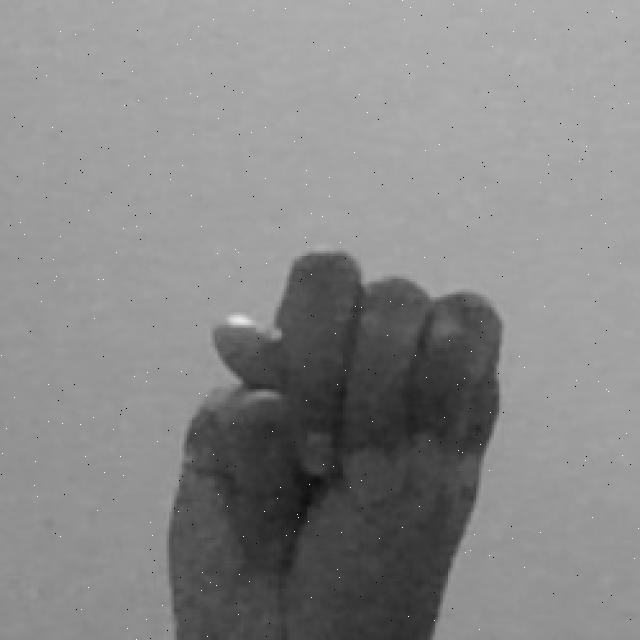M: (162, 242, 510, 640)
